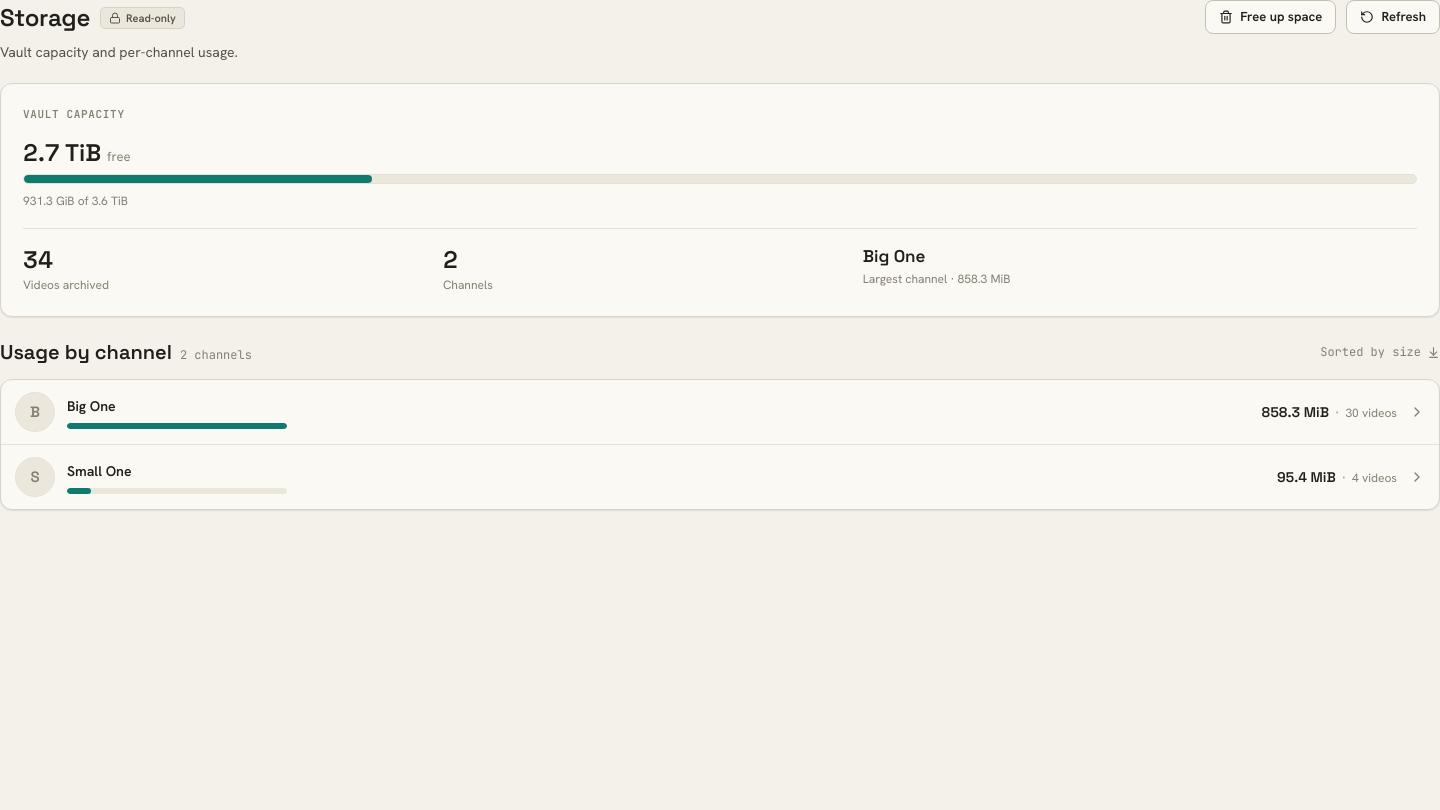
it: StoragePage › surfaces a 200 response’s per-id {failed} — a delete-time race, not a transport failure
This screenshot has width=1440, height=810.
Expected: the button with test id "storage-usage-row-c-big" is shown, [1, 380, 1439, 445]
Click the button "Free up space" at (1271, 17), box [1205, 0, 1336, 34]
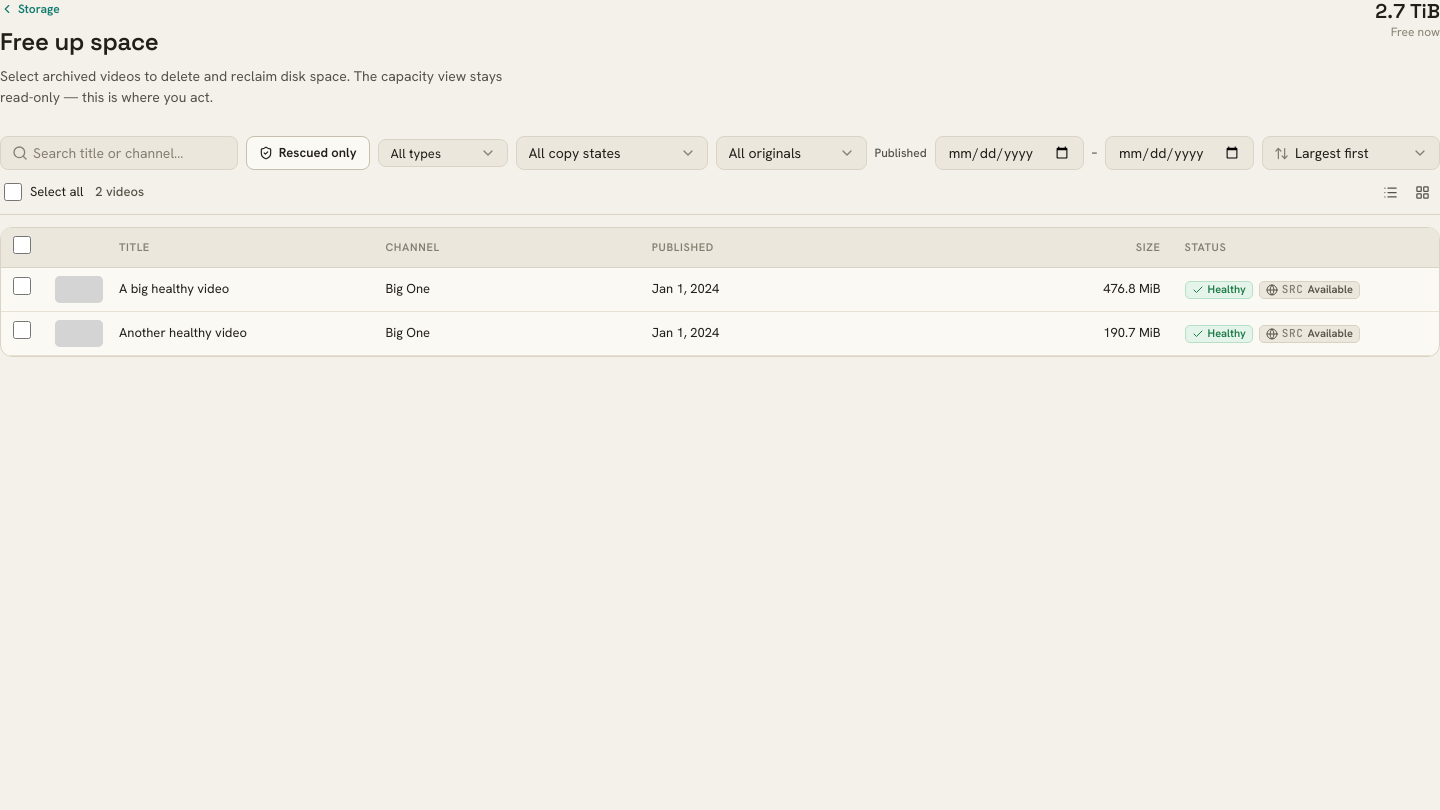
Now the text "Another healthy video" is shown, box [107, 311, 373, 355]
Click the checkbox named "v1" next to "A big healthy video" at (22, 286), box [13, 277, 31, 295]
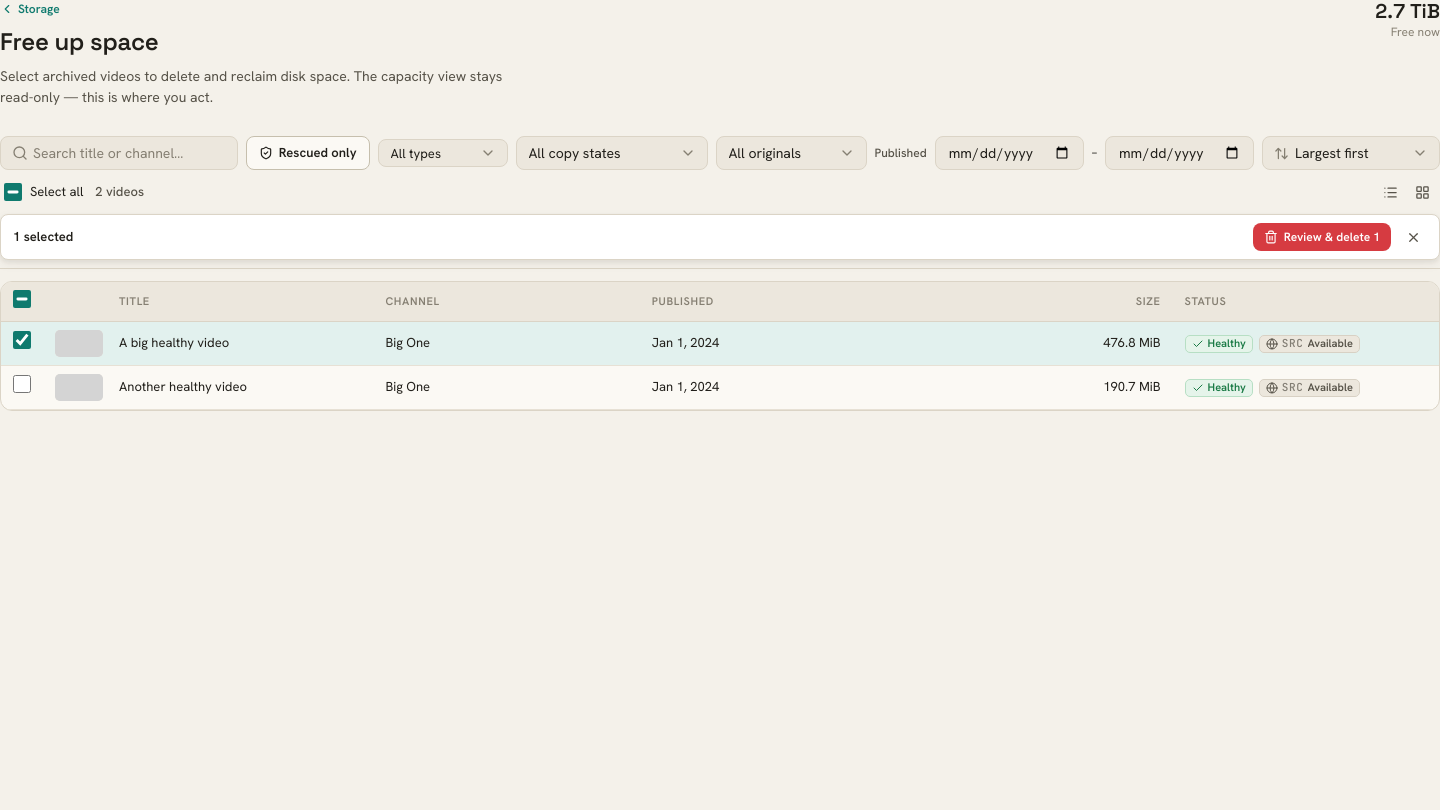
Click the checkbox named "v2" next to "Another healthy video" at (22, 384), box [13, 375, 31, 393]
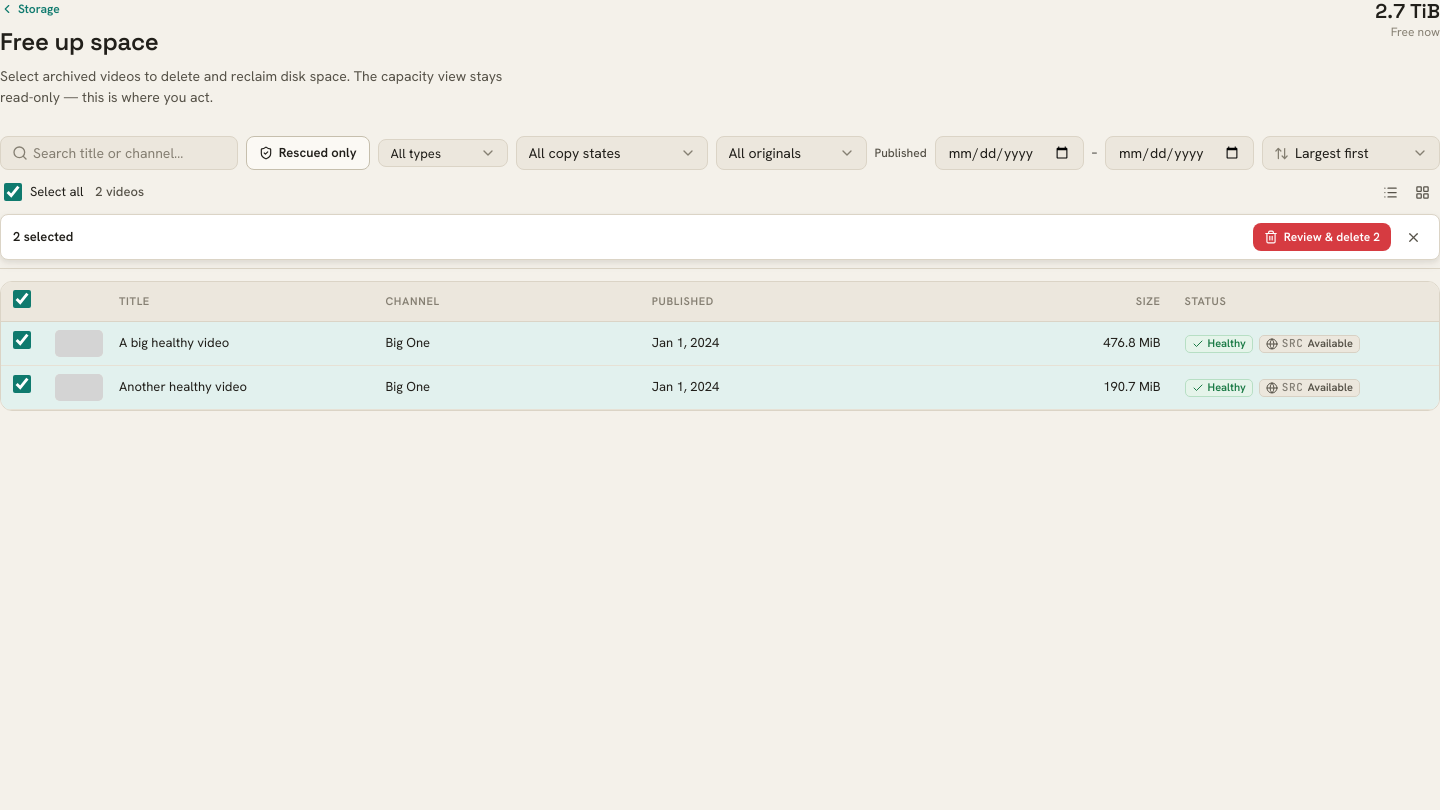
Click the button "Review & delete 2" at (1322, 237), box [1253, 223, 1391, 251]
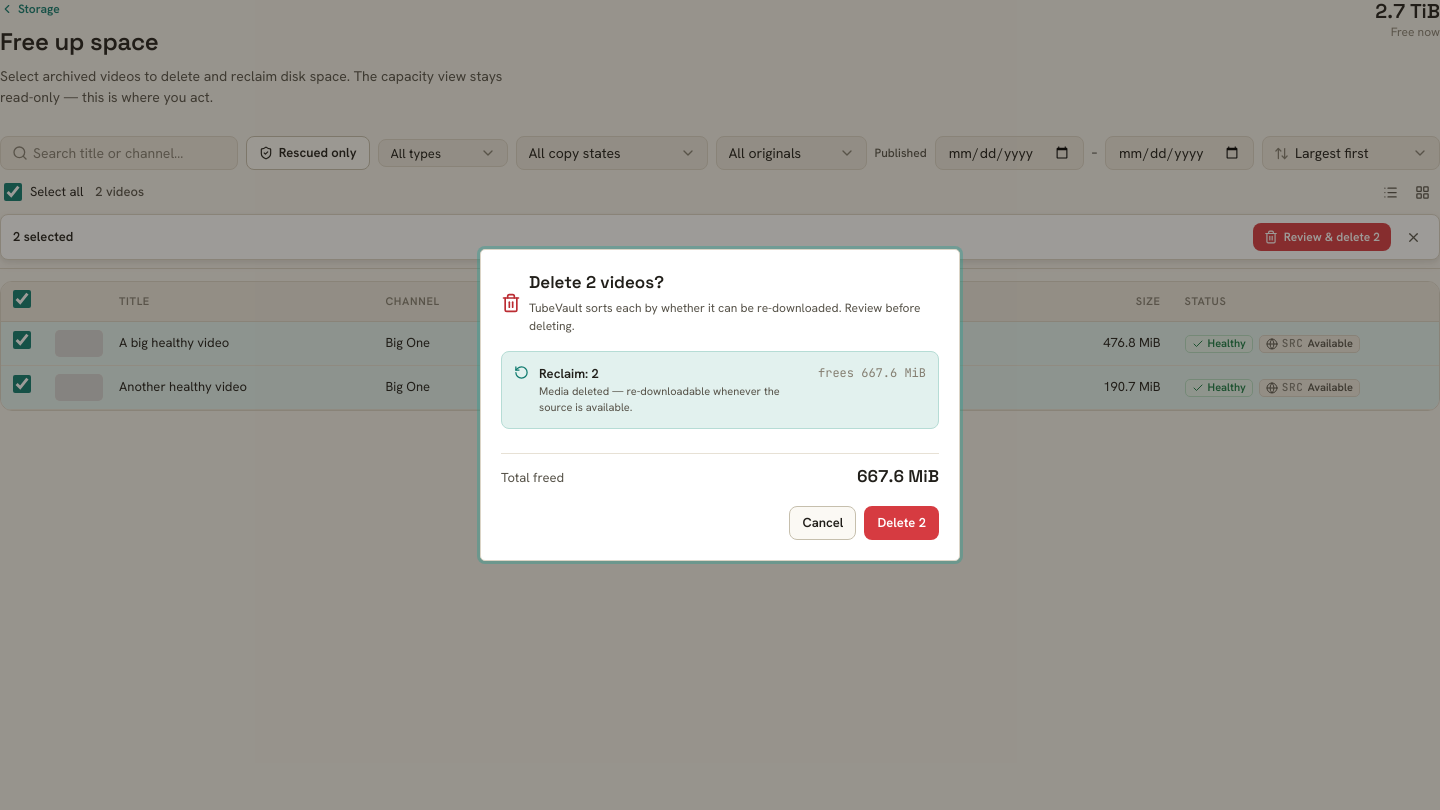
Click the button "Delete 2" at (902, 523), box [864, 506, 939, 540]
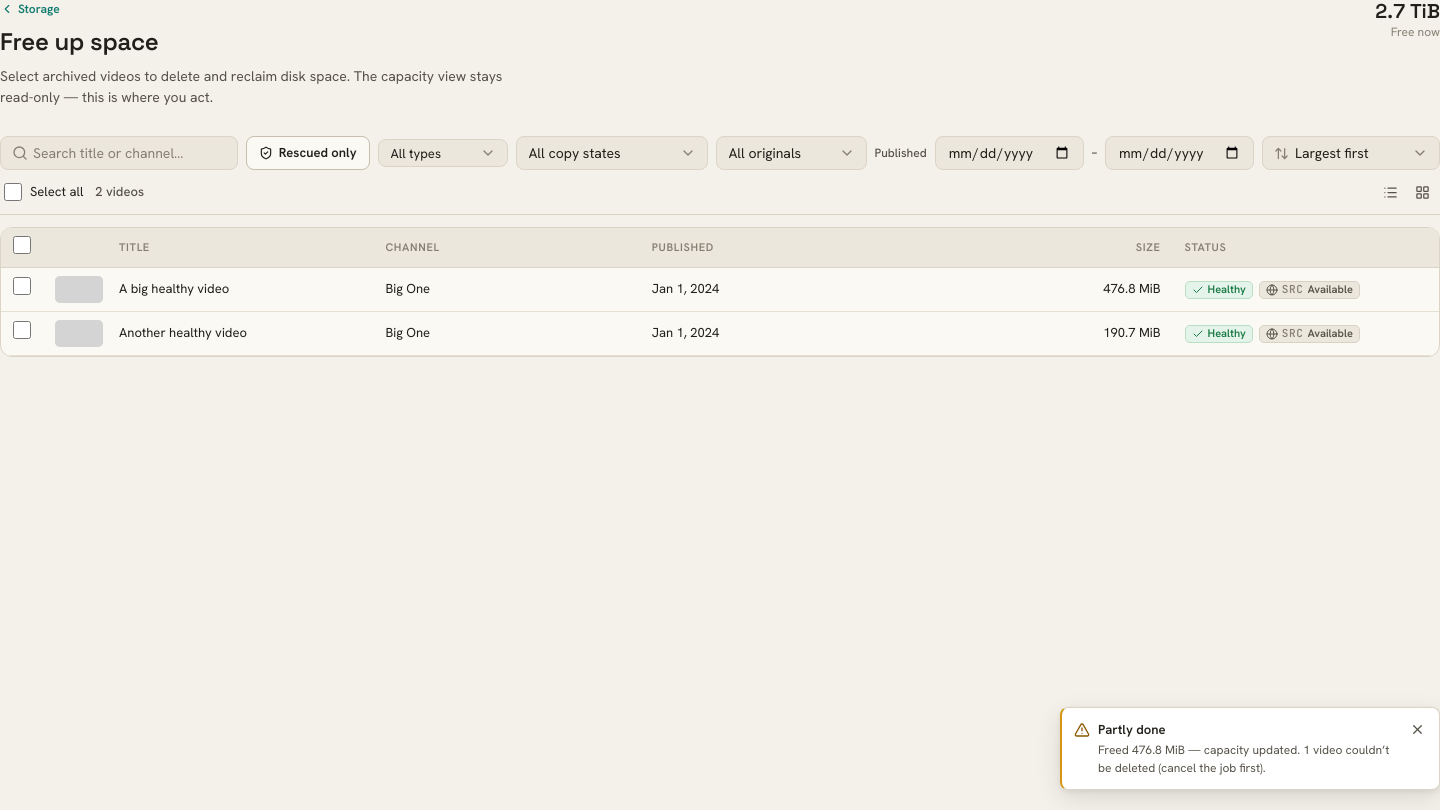
Now the text "Partly done" is shown, box [1098, 720, 1166, 738]
Now the text with class "tv-toast__message" shows "476.8 MiB", box [1098, 742, 1389, 776]
Now the text with class "tv-toast__message" shows "cancel the job first", box [1098, 742, 1389, 776]
